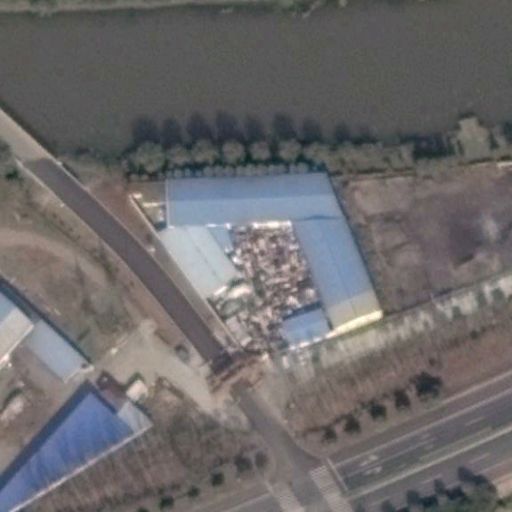msw: (224, 221, 319, 350)
